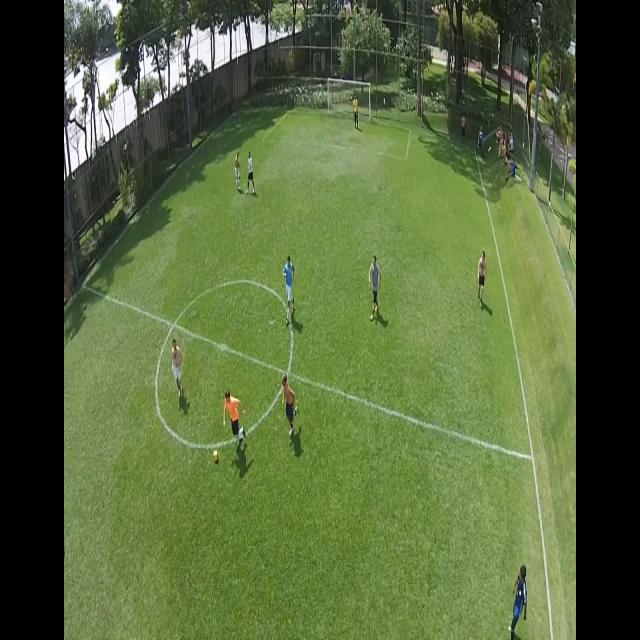humans: (221, 384, 249, 453), (511, 559, 531, 640), (279, 366, 299, 445), (365, 244, 383, 330), (282, 250, 298, 330), (170, 331, 186, 408), (474, 248, 490, 307), (349, 86, 362, 136), (245, 149, 256, 205), (232, 147, 244, 194)
